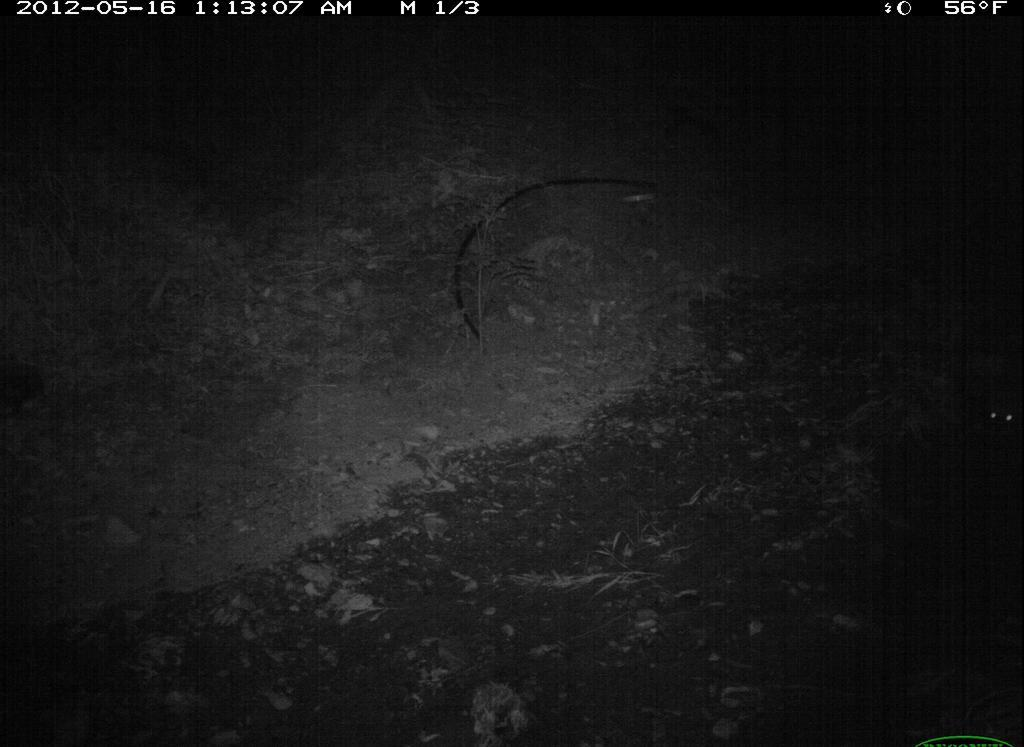raccoon: (978, 359, 1023, 465)
